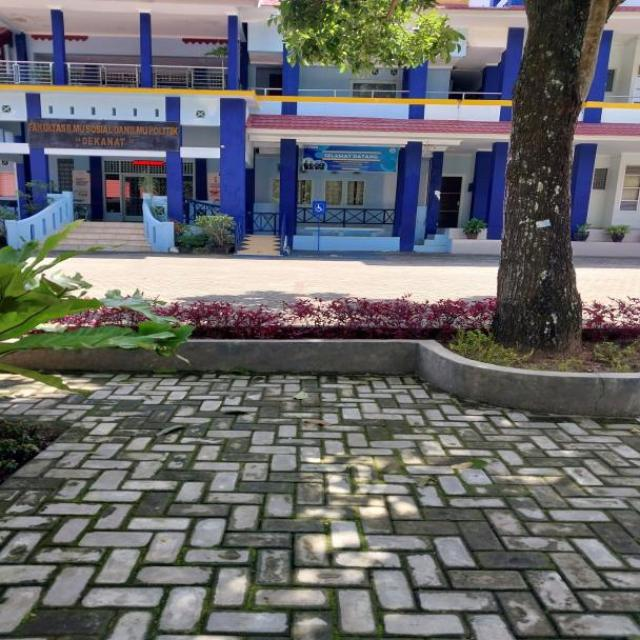tree ahead at: (496, 5, 604, 348)
